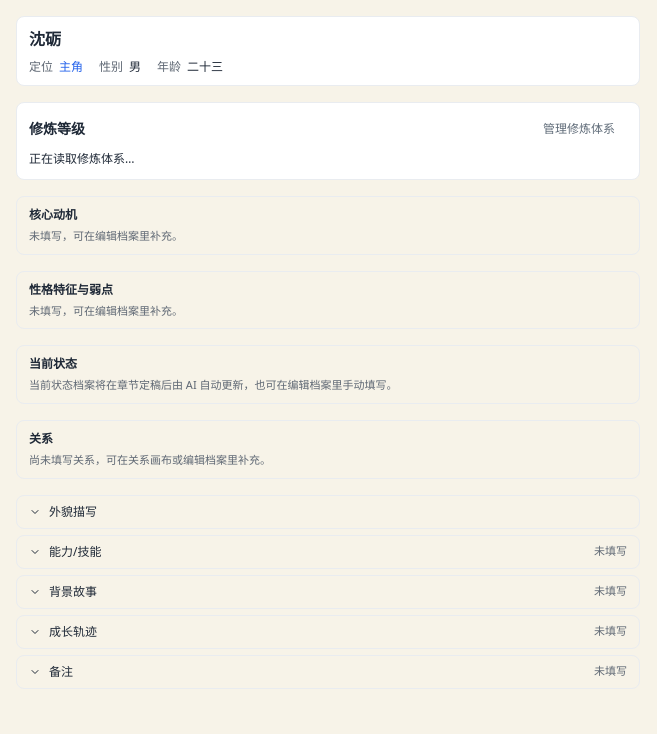
character profile detail sections › hides the正文 again when the row is clicked a second time
This screenshot has width=657, height=734.
Click the heading with test id "profile-detail-summary" showing "外貌描写" at (63, 511), box [29,503,97,520]
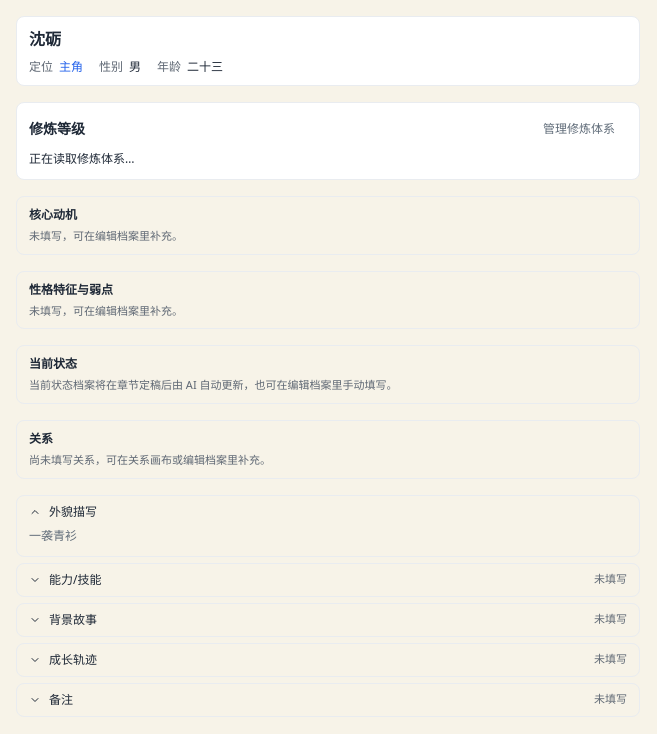
Now the element with test id "profile-detail-body" is shown, box [29,527,77,544]
Click the heading with test id "profile-detail-summary" showing "外貌描写" at (63, 511), box [29,503,97,520]
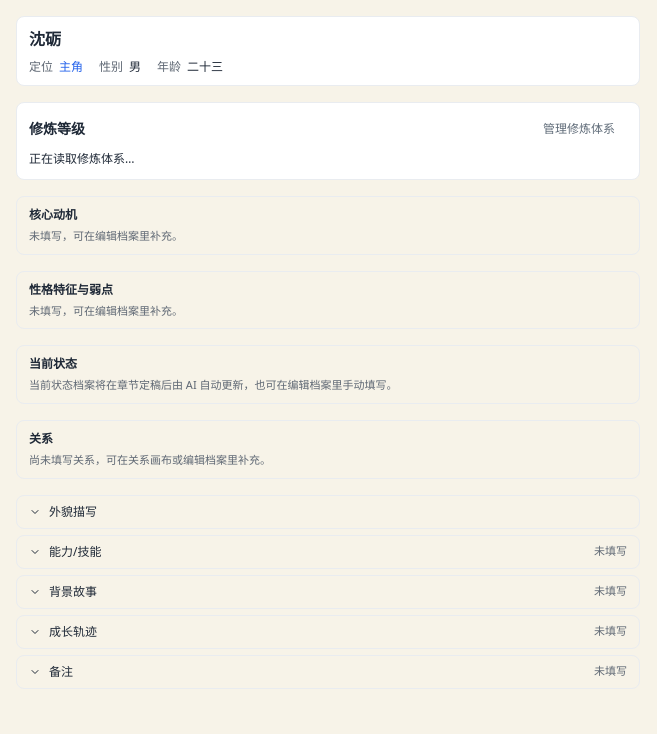
Now the element with test id "profile-detail-body" is gone
